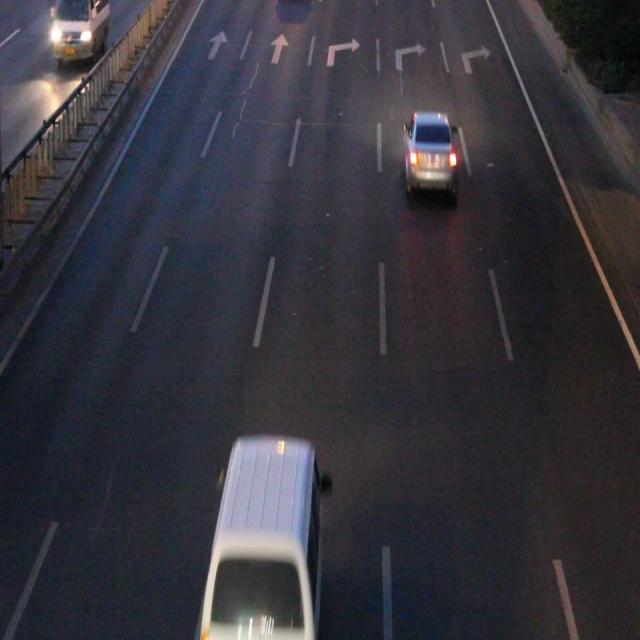car: (402, 112, 454, 190)
truck: (206, 438, 316, 640)
